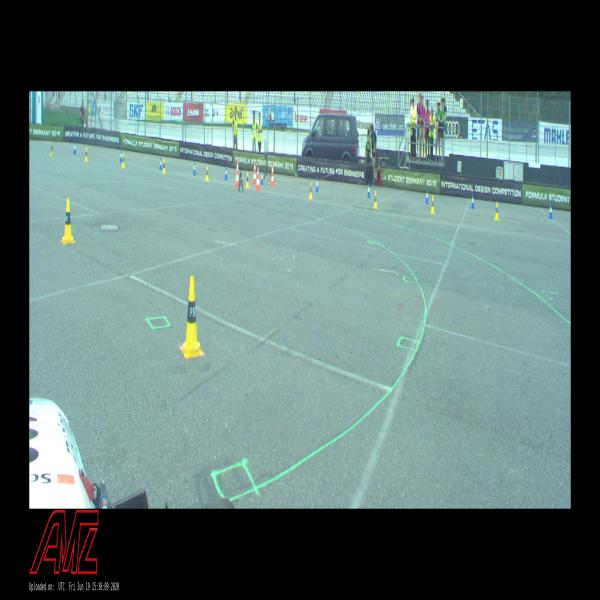blue_cone: (548, 204, 552, 219), (425, 189, 429, 204), (224, 166, 228, 180), (471, 193, 474, 209), (193, 163, 196, 176), (368, 182, 370, 198), (316, 177, 318, 192), (261, 170, 263, 185), (160, 157, 162, 170), (74, 142, 76, 154), (120, 150, 122, 162)
large_orange_cone: (235, 160, 239, 186), (256, 164, 260, 190), (270, 164, 274, 186), (252, 162, 256, 184)
yellow_cone: (181, 276, 203, 358), (62, 199, 75, 243), (494, 202, 499, 221), (430, 196, 435, 214), (373, 190, 377, 209), (50, 142, 54, 155), (309, 182, 312, 199), (246, 171, 249, 188), (206, 166, 209, 181), (85, 147, 88, 162), (163, 159, 166, 174), (122, 153, 125, 168)
